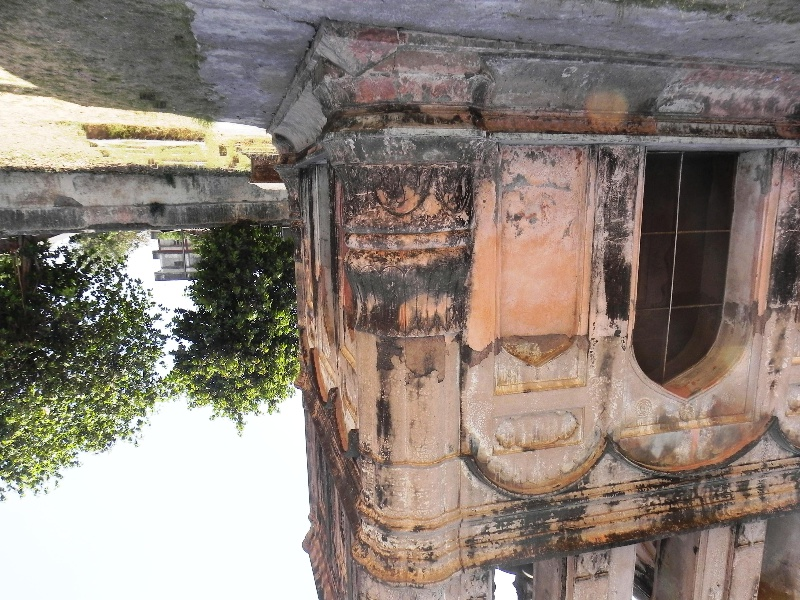Spalling: (455, 325, 599, 362)
